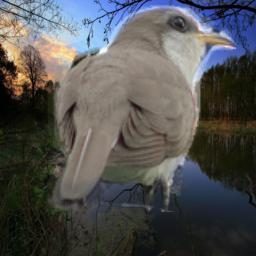Cuckoo: (46, 5, 236, 212)
